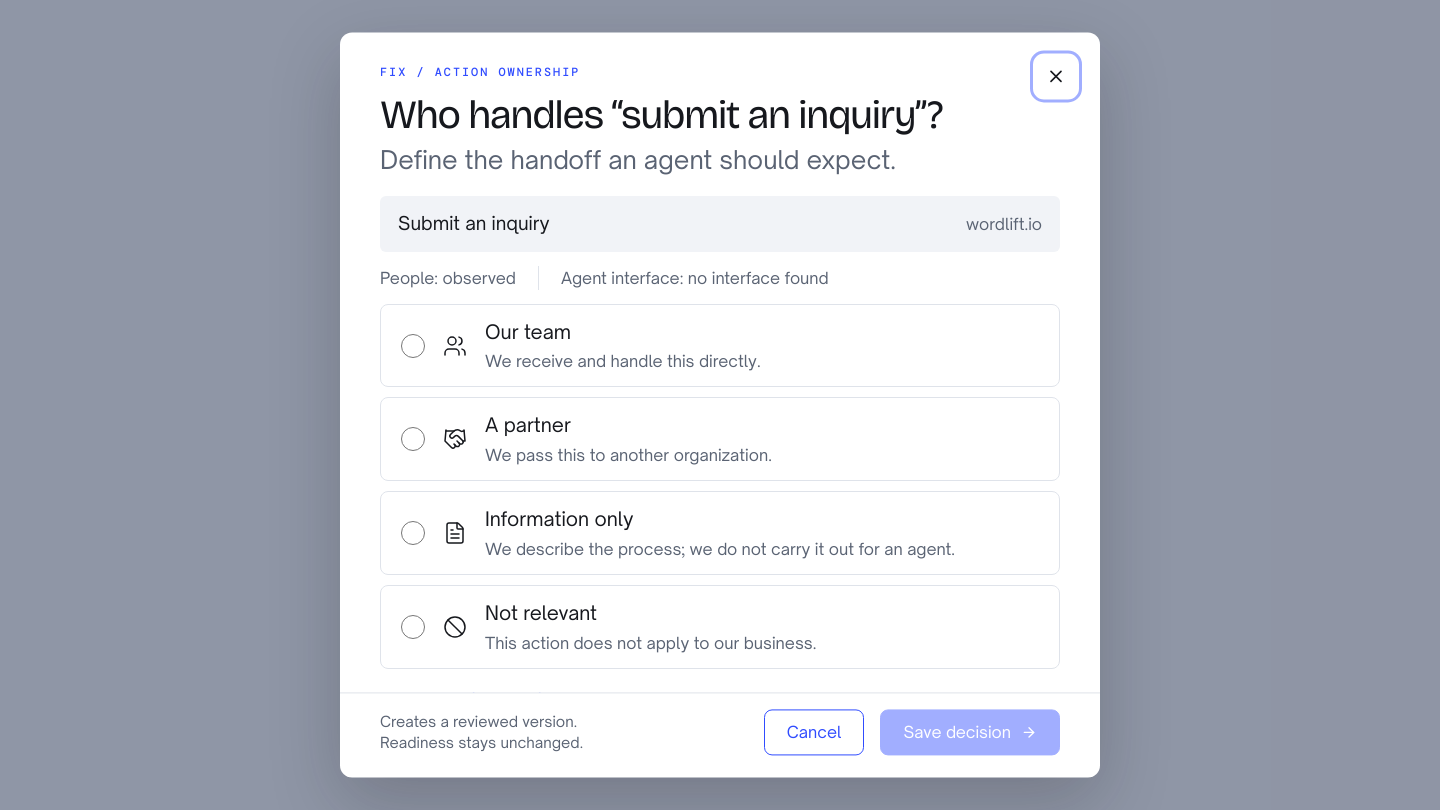
action ownership › stays in review, with the reason, when the returned version does not carry the decision
Click the radio button labelled "Not relevant This action does not apply to our business.". click: (413, 627)
box: [401,615,425,639]
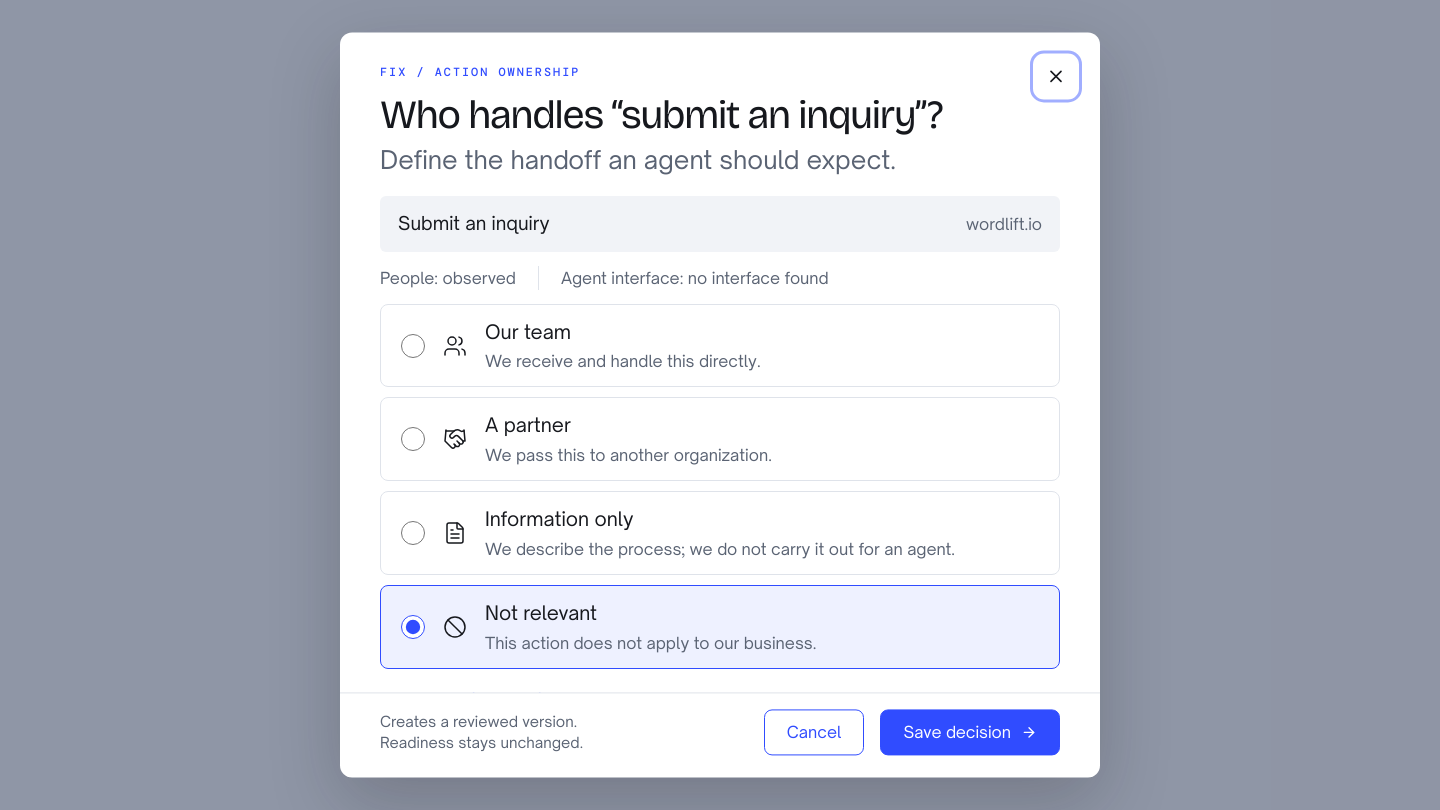
Click the button "Save decision". click: (970, 733)
box: [880,710,1060,756]
(page scrolled)
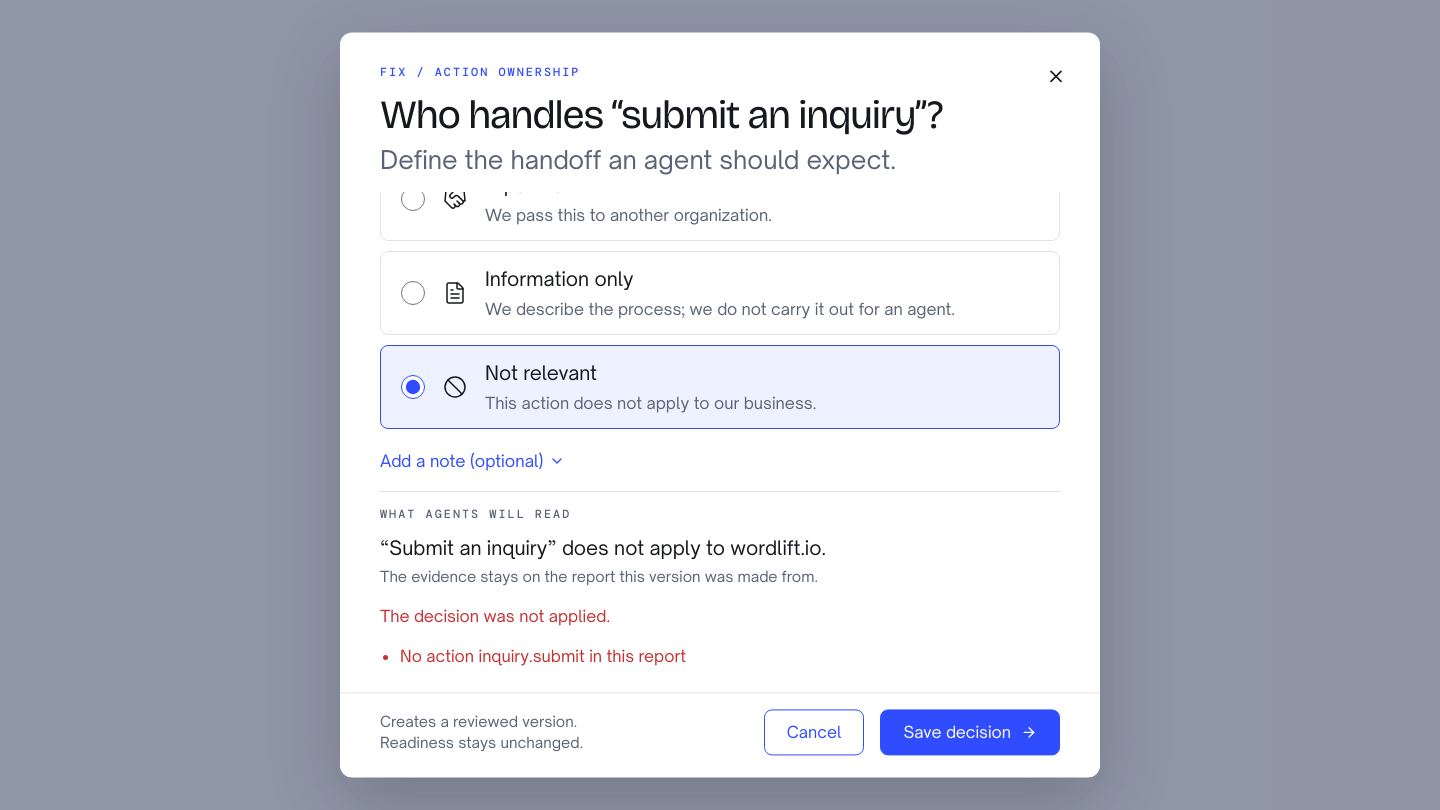
Check: the message reads "The decision was not applied. No action inquiry.submit in this report", box [380,606,686,666]
